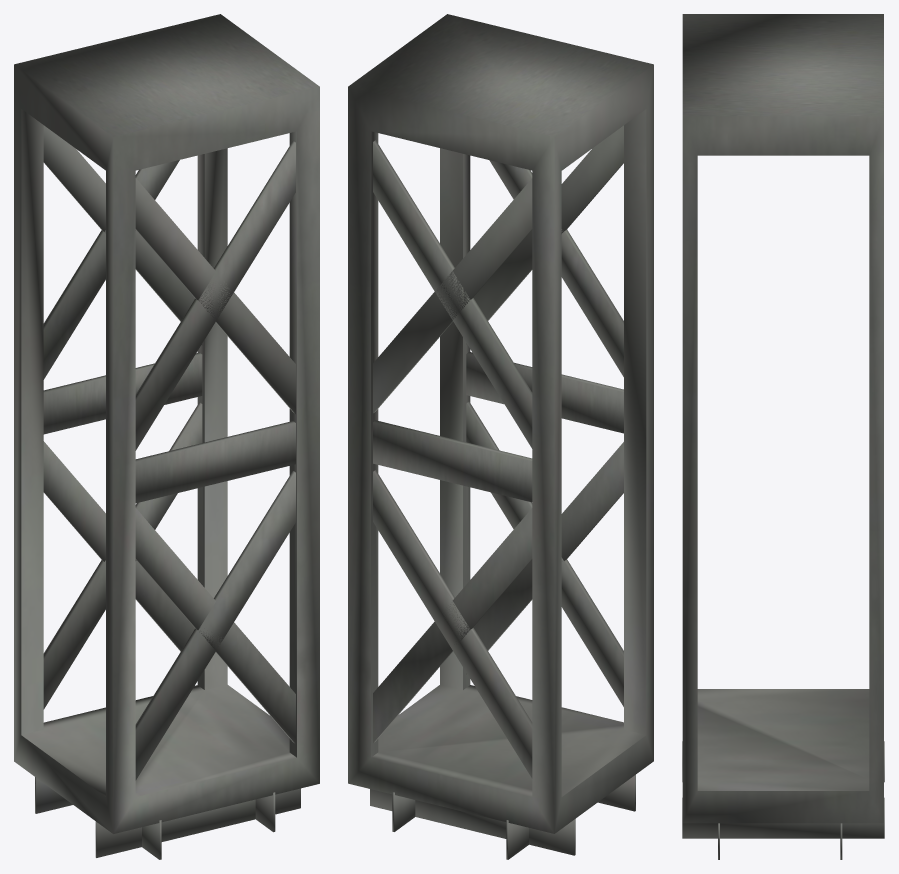
File: TallEquipmentRack.obj
The picture shows the model from 3 angles, left to right: view 1: azimuth 30°, elevation 25°; view 2: azimuth 150°, elevation 25°; view 3: azimuth 270°, elevation 25°; orthographic projection.
Parts seen in each view (by area): view 1: TallEquipmentRack.obj; view 2: TallEquipmentRack.obj; view 3: TallEquipmentRack.obj.
Part boxes in pixels (x1,y1,x2,y2): TallEquipmentRack.obj: (14, 14, 319, 859); TallEquipmentRack.obj: (348, 14, 653, 859); TallEquipmentRack.obj: (682, 14, 884, 859).
Bounding box in the file's own units: 5.8 × 19.7 × 4.85.
